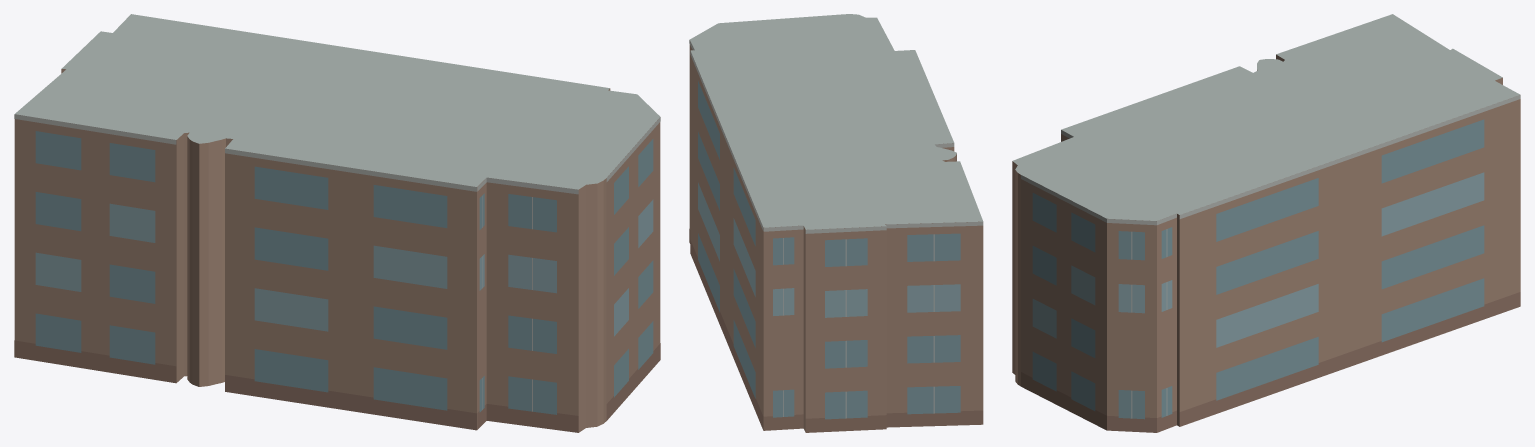
The model's file is survey-upis-33026090.glb.
3 renders of one model, left to right at view 1: azimuth 30°, elevation 25°; view 2: azimuth 150°, elevation 25°; view 3: azimuth 270°, elevation 25°, orthographic. The views are drawn at different scales.
Parts seen in each view (by area): view 1: survey-upis-33026090.tmp; view 2: survey-upis-33026090.tmp; view 3: survey-upis-33026090.tmp.
Boxes of the visible parts, x1,y1,x2,y2 form: survey-upis-33026090.tmp: (14, 14, 660, 432); survey-upis-33026090.tmp: (689, 14, 983, 432); survey-upis-33026090.tmp: (1012, 14, 1520, 432).
Size of the model in its own units: 26.01 by 12.4 by 26.98.
